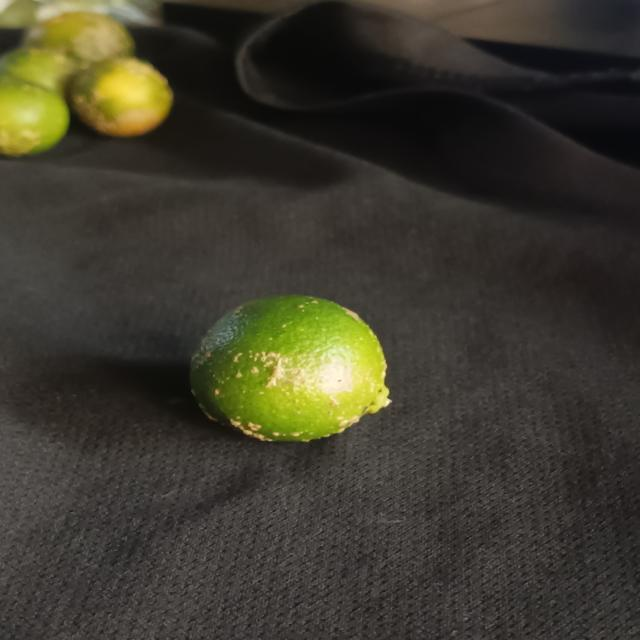scab: (184, 294, 396, 450)
